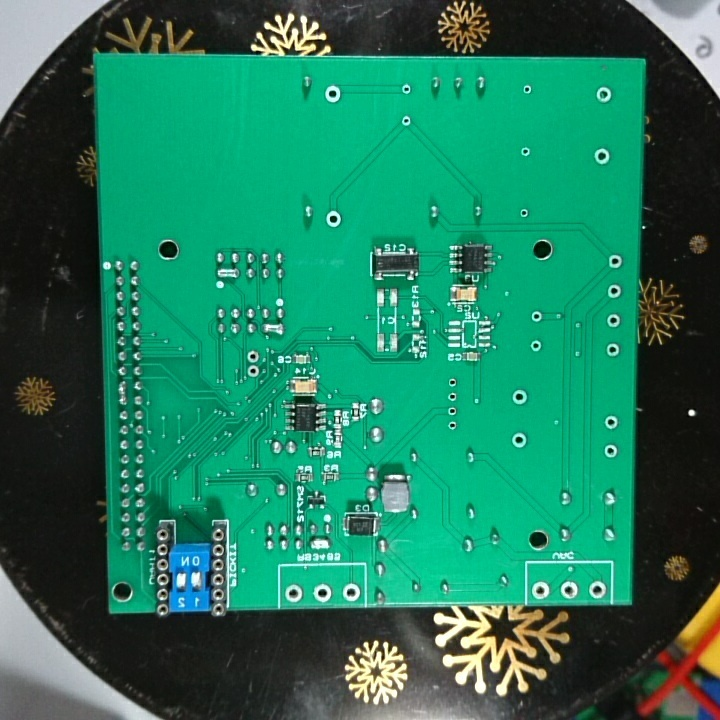F: (529, 578, 552, 600), (340, 581, 362, 604), (281, 582, 305, 603), (559, 577, 581, 599), (324, 207, 345, 229), (311, 582, 332, 603), (593, 146, 613, 168), (594, 85, 614, 107), (606, 250, 626, 272), (323, 85, 346, 104), (587, 578, 606, 601), (509, 388, 531, 407), (604, 282, 624, 302), (604, 339, 623, 359), (510, 429, 529, 448), (602, 413, 620, 433), (606, 310, 622, 332), (527, 307, 545, 326), (601, 442, 619, 459), (444, 416, 461, 433), (398, 111, 414, 129), (245, 363, 261, 380), (516, 206, 534, 221), (445, 374, 462, 389), (245, 347, 260, 363), (445, 387, 460, 403), (519, 143, 533, 160), (445, 402, 460, 417), (398, 82, 415, 95), (528, 337, 543, 351), (521, 81, 533, 97)
P: (214, 264, 240, 281), (262, 322, 286, 338), (309, 536, 332, 551), (116, 380, 129, 403)
